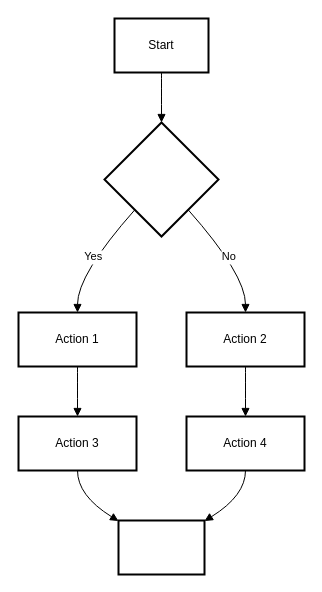
Some shapes in this 322 by 592 pixel diagram are drawn without their labels. The shapes that lost their labels are listed below. From the top down, each one's centre as x and y in pixels, then its label:
[161,179]: Decision
[161,547]: End
